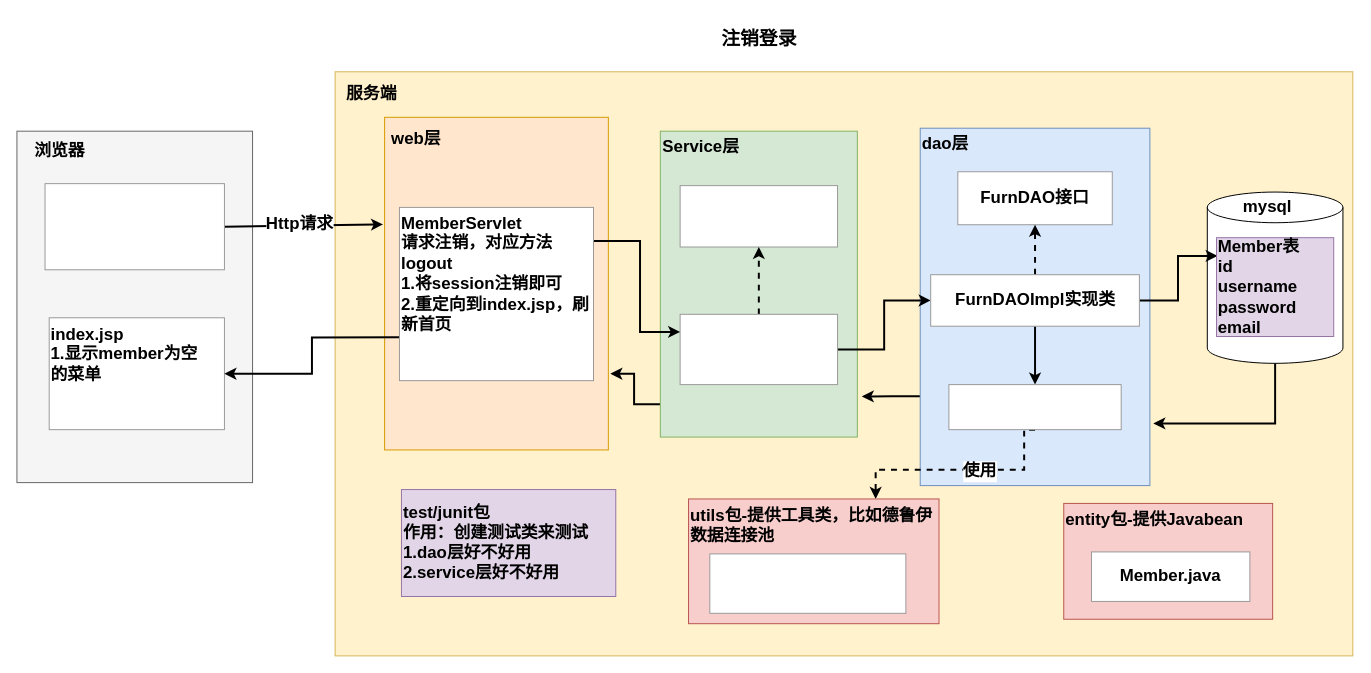
This 1371x673 diagram has some shape labels left out. Here are the shapes that lost their labels. From the top down, the centre of each, then its label:
(134,226): member/login.jsp 或index.jsp 安全退出[超链接]
(758,216): FurnService.java [接口]
(758,349): FurnServiceImpl .java实现类：
(1034,407): BasicDAO[基础DAO]
(807,583): JDBCUtilsDruid.java
